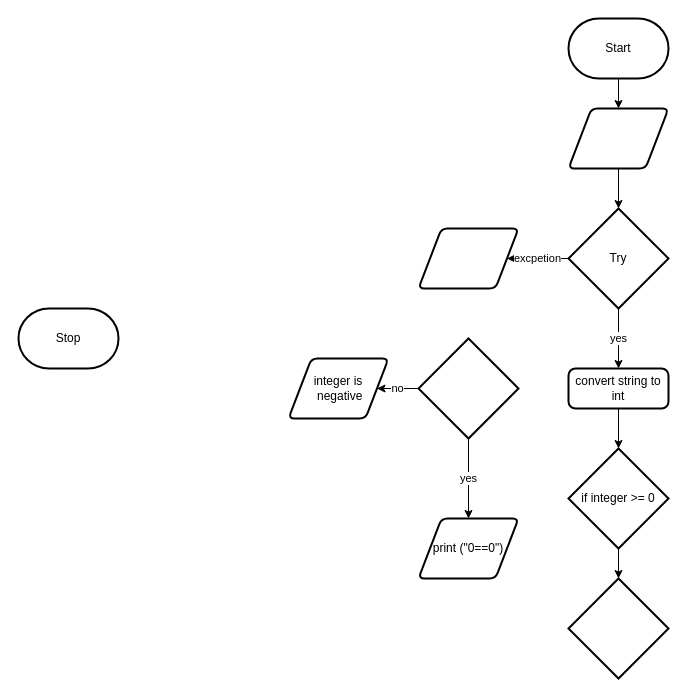
Some shapes in this 686 by 696 pixel diagram are drawn without their labels. Each missing label, with the box of its shape:
elif integer == 0: (417, 337, 519, 439)
Get user input: (567, 107, 669, 169)
print "not a valid input": (417, 227, 519, 289)
while loop_counter < num: (567, 577, 669, 679)
